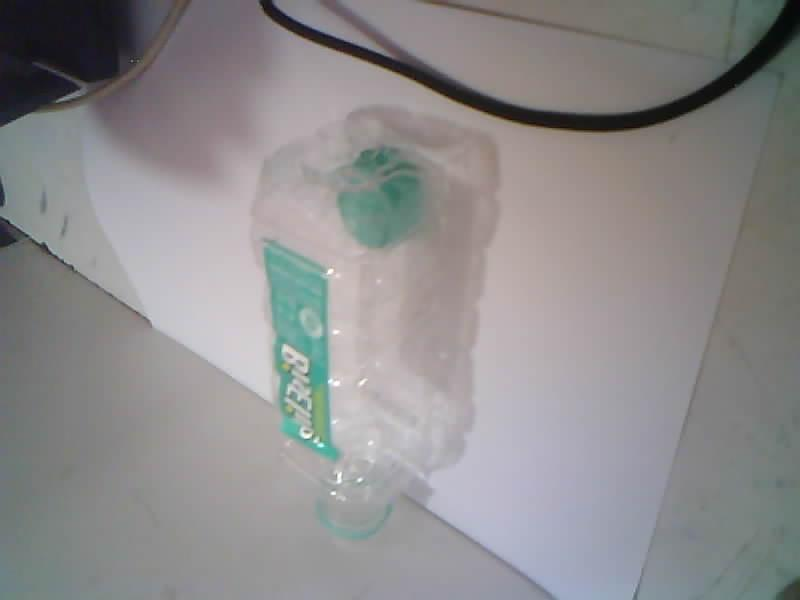non-biodegradable: (249, 108, 498, 538)
